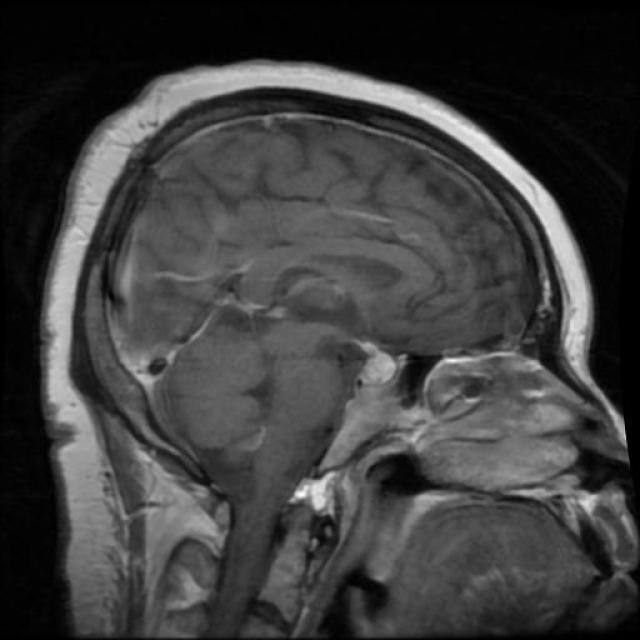pituitary: (338, 331, 410, 417)
